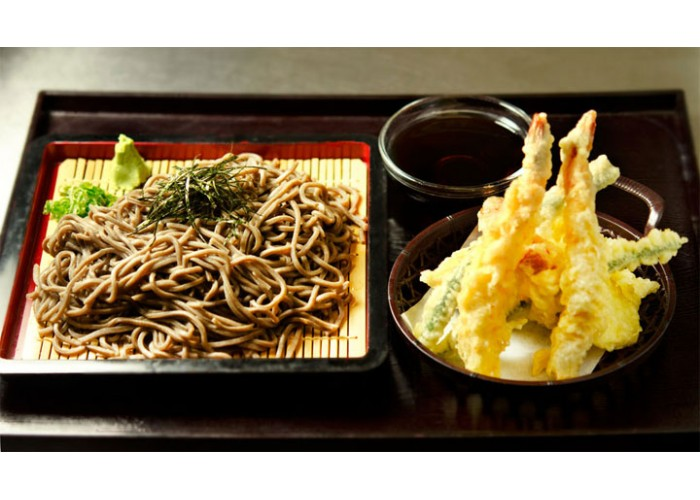Soba: (29, 148, 370, 368)
